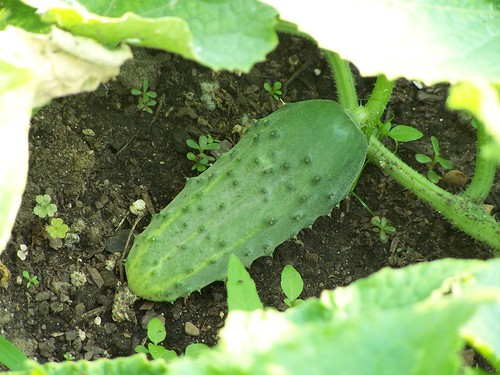cucumber: (125, 98, 369, 301)
